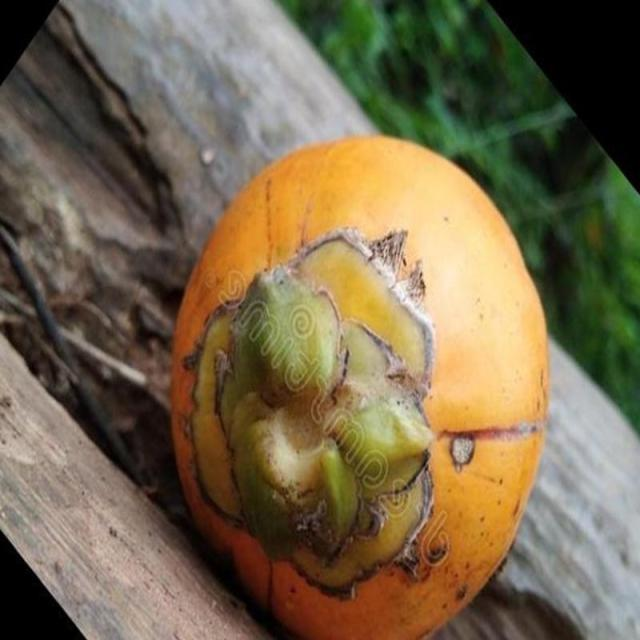good: (164, 135, 551, 639)
